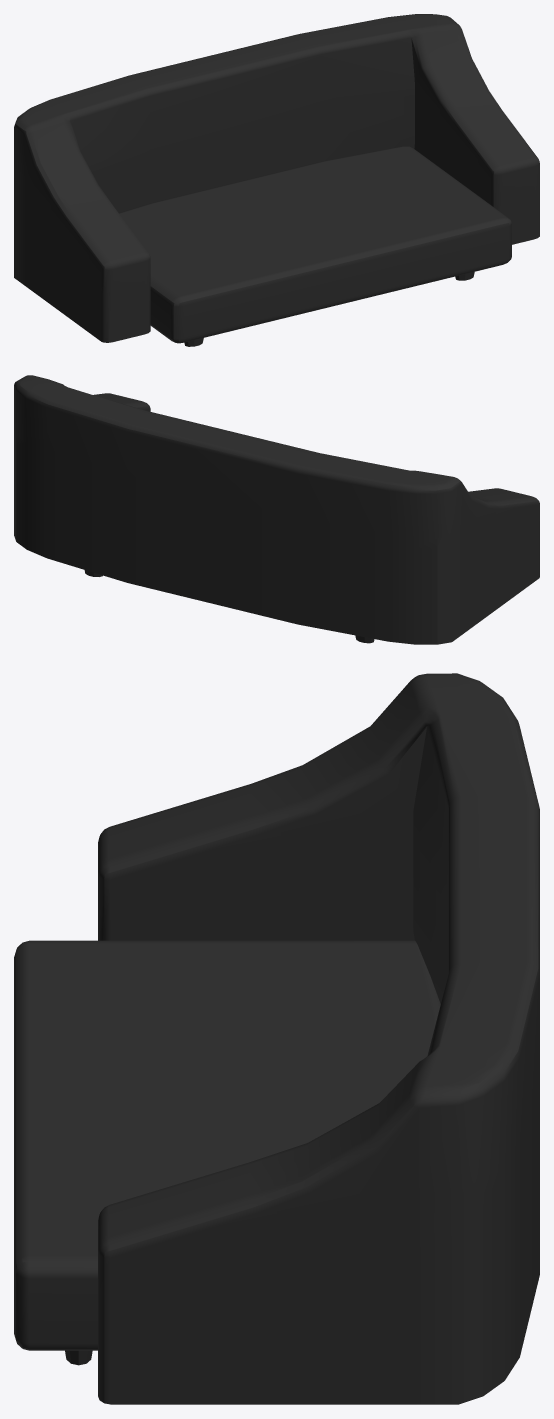
The model's file is fbx_sofa_3.fbx.
3 renders of one model, top to bottom at view 1: azimuth 30°, elevation 25°; view 2: azimuth 150°, elevation 25°; view 3: azimuth 270°, elevation 25°, orthographic. The views are drawn at different scales.
Visible parts, largest first — view 1: fbx_sofa_3; view 2: fbx_sofa_3; view 3: fbx_sofa_3.
Part boxes in pixels (x1,y1,x2,y2): fbx_sofa_3: (14, 14, 539, 346); fbx_sofa_3: (14, 375, 539, 644); fbx_sofa_3: (14, 673, 539, 1404).
Bounding box in the file's own units: 2.42 × 0.9169 × 1.27.
1 material, 1 textured.
